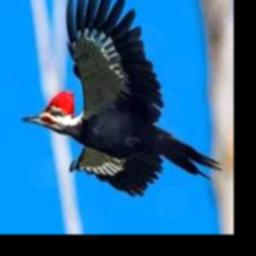Woodpecker: (22, 0, 223, 196)
